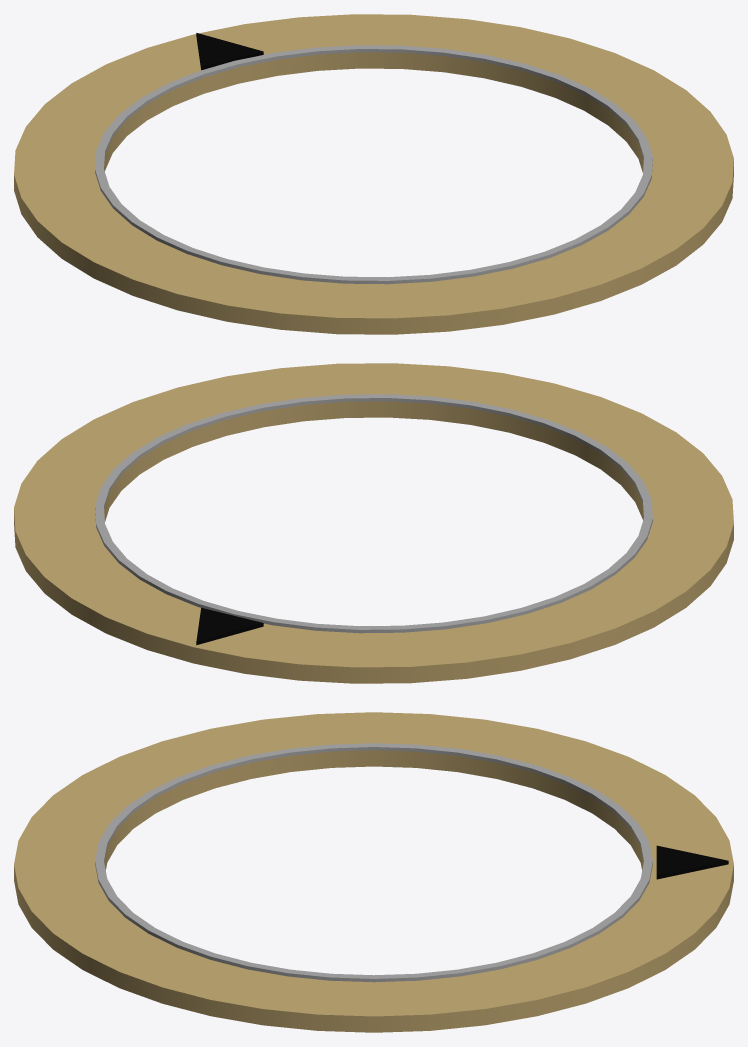
File: Ring2.fbx
The picture shows the model from 3 angles, top to bottom: view 1: azimuth 30°, elevation 25°; view 2: azimuth 150°, elevation 25°; view 3: azimuth 270°, elevation 25°; orthographic projection.
Visible parts, largest first — view 1: Ring2; view 2: Ring2; view 3: Ring2.
Part boxes in pixels (left/top/right/bottom): Ring2: left=14, top=14, right=733, bottom=334; Ring2: left=14, top=363, right=733, bottom=683; Ring2: left=14, top=712, right=733, bottom=1032.
Bounding box in the file's own units: 80 × 2.44 × 80.
